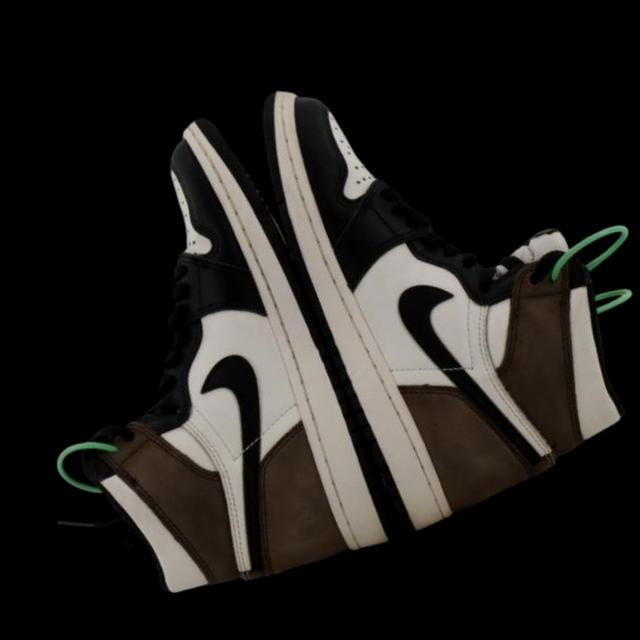nike_original_jordan: (143, 0, 640, 585), (0, 65, 493, 640)
